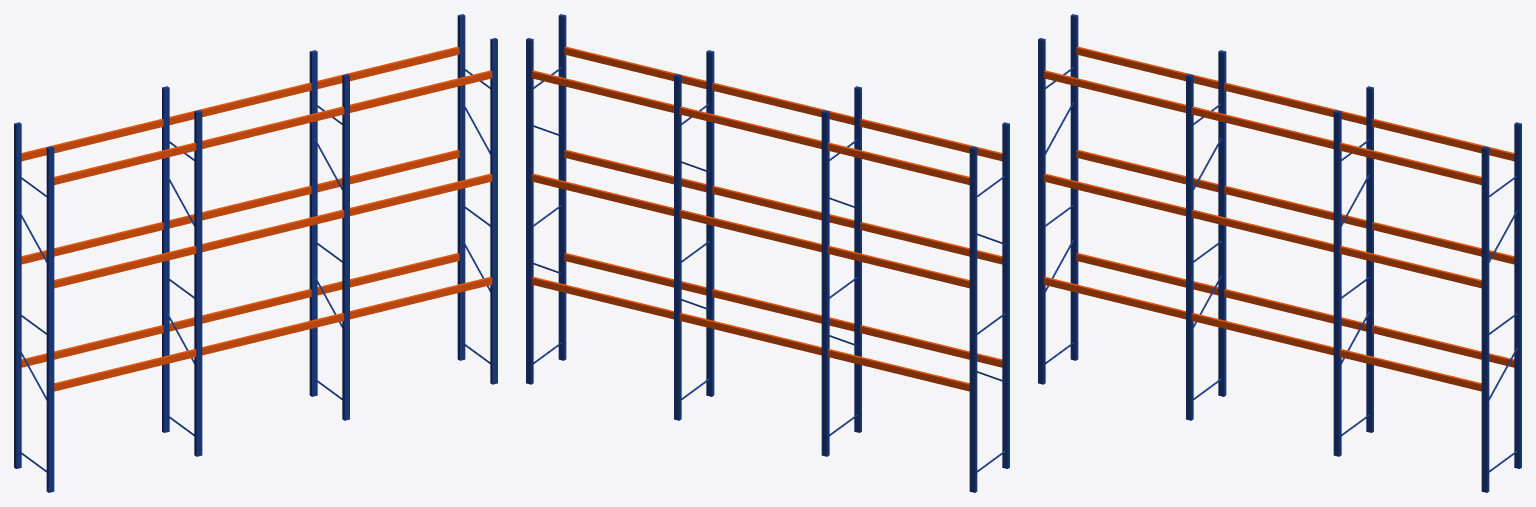
Rendered from industrial.racking.empty_3.glb.
The picture shows the model from 3 angles, left to right: view 1: azimuth 30°, elevation 25°; view 2: azimuth 150°, elevation 25°; view 3: azimuth 330°, elevation 25°; orthographic projection.
Parts seen in each view (by area): view 1: main__plastic_blue, main__hivis_orange; view 2: main__plastic_blue, main__hivis_orange; view 3: main__plastic_blue, main__hivis_orange.
Part boxes in pixels (box(x1,y1,x2,y2)): main__plastic_blue: box(14, 14, 497, 492); main__hivis_orange: box(21, 46, 492, 391); main__plastic_blue: box(526, 14, 1009, 492); main__hivis_orange: box(531, 46, 1002, 391); main__plastic_blue: box(1038, 14, 1521, 492); main__hivis_orange: box(1043, 46, 1514, 391).
Bounding box in the file's own units: 8.2 × 6 × 1.1.
